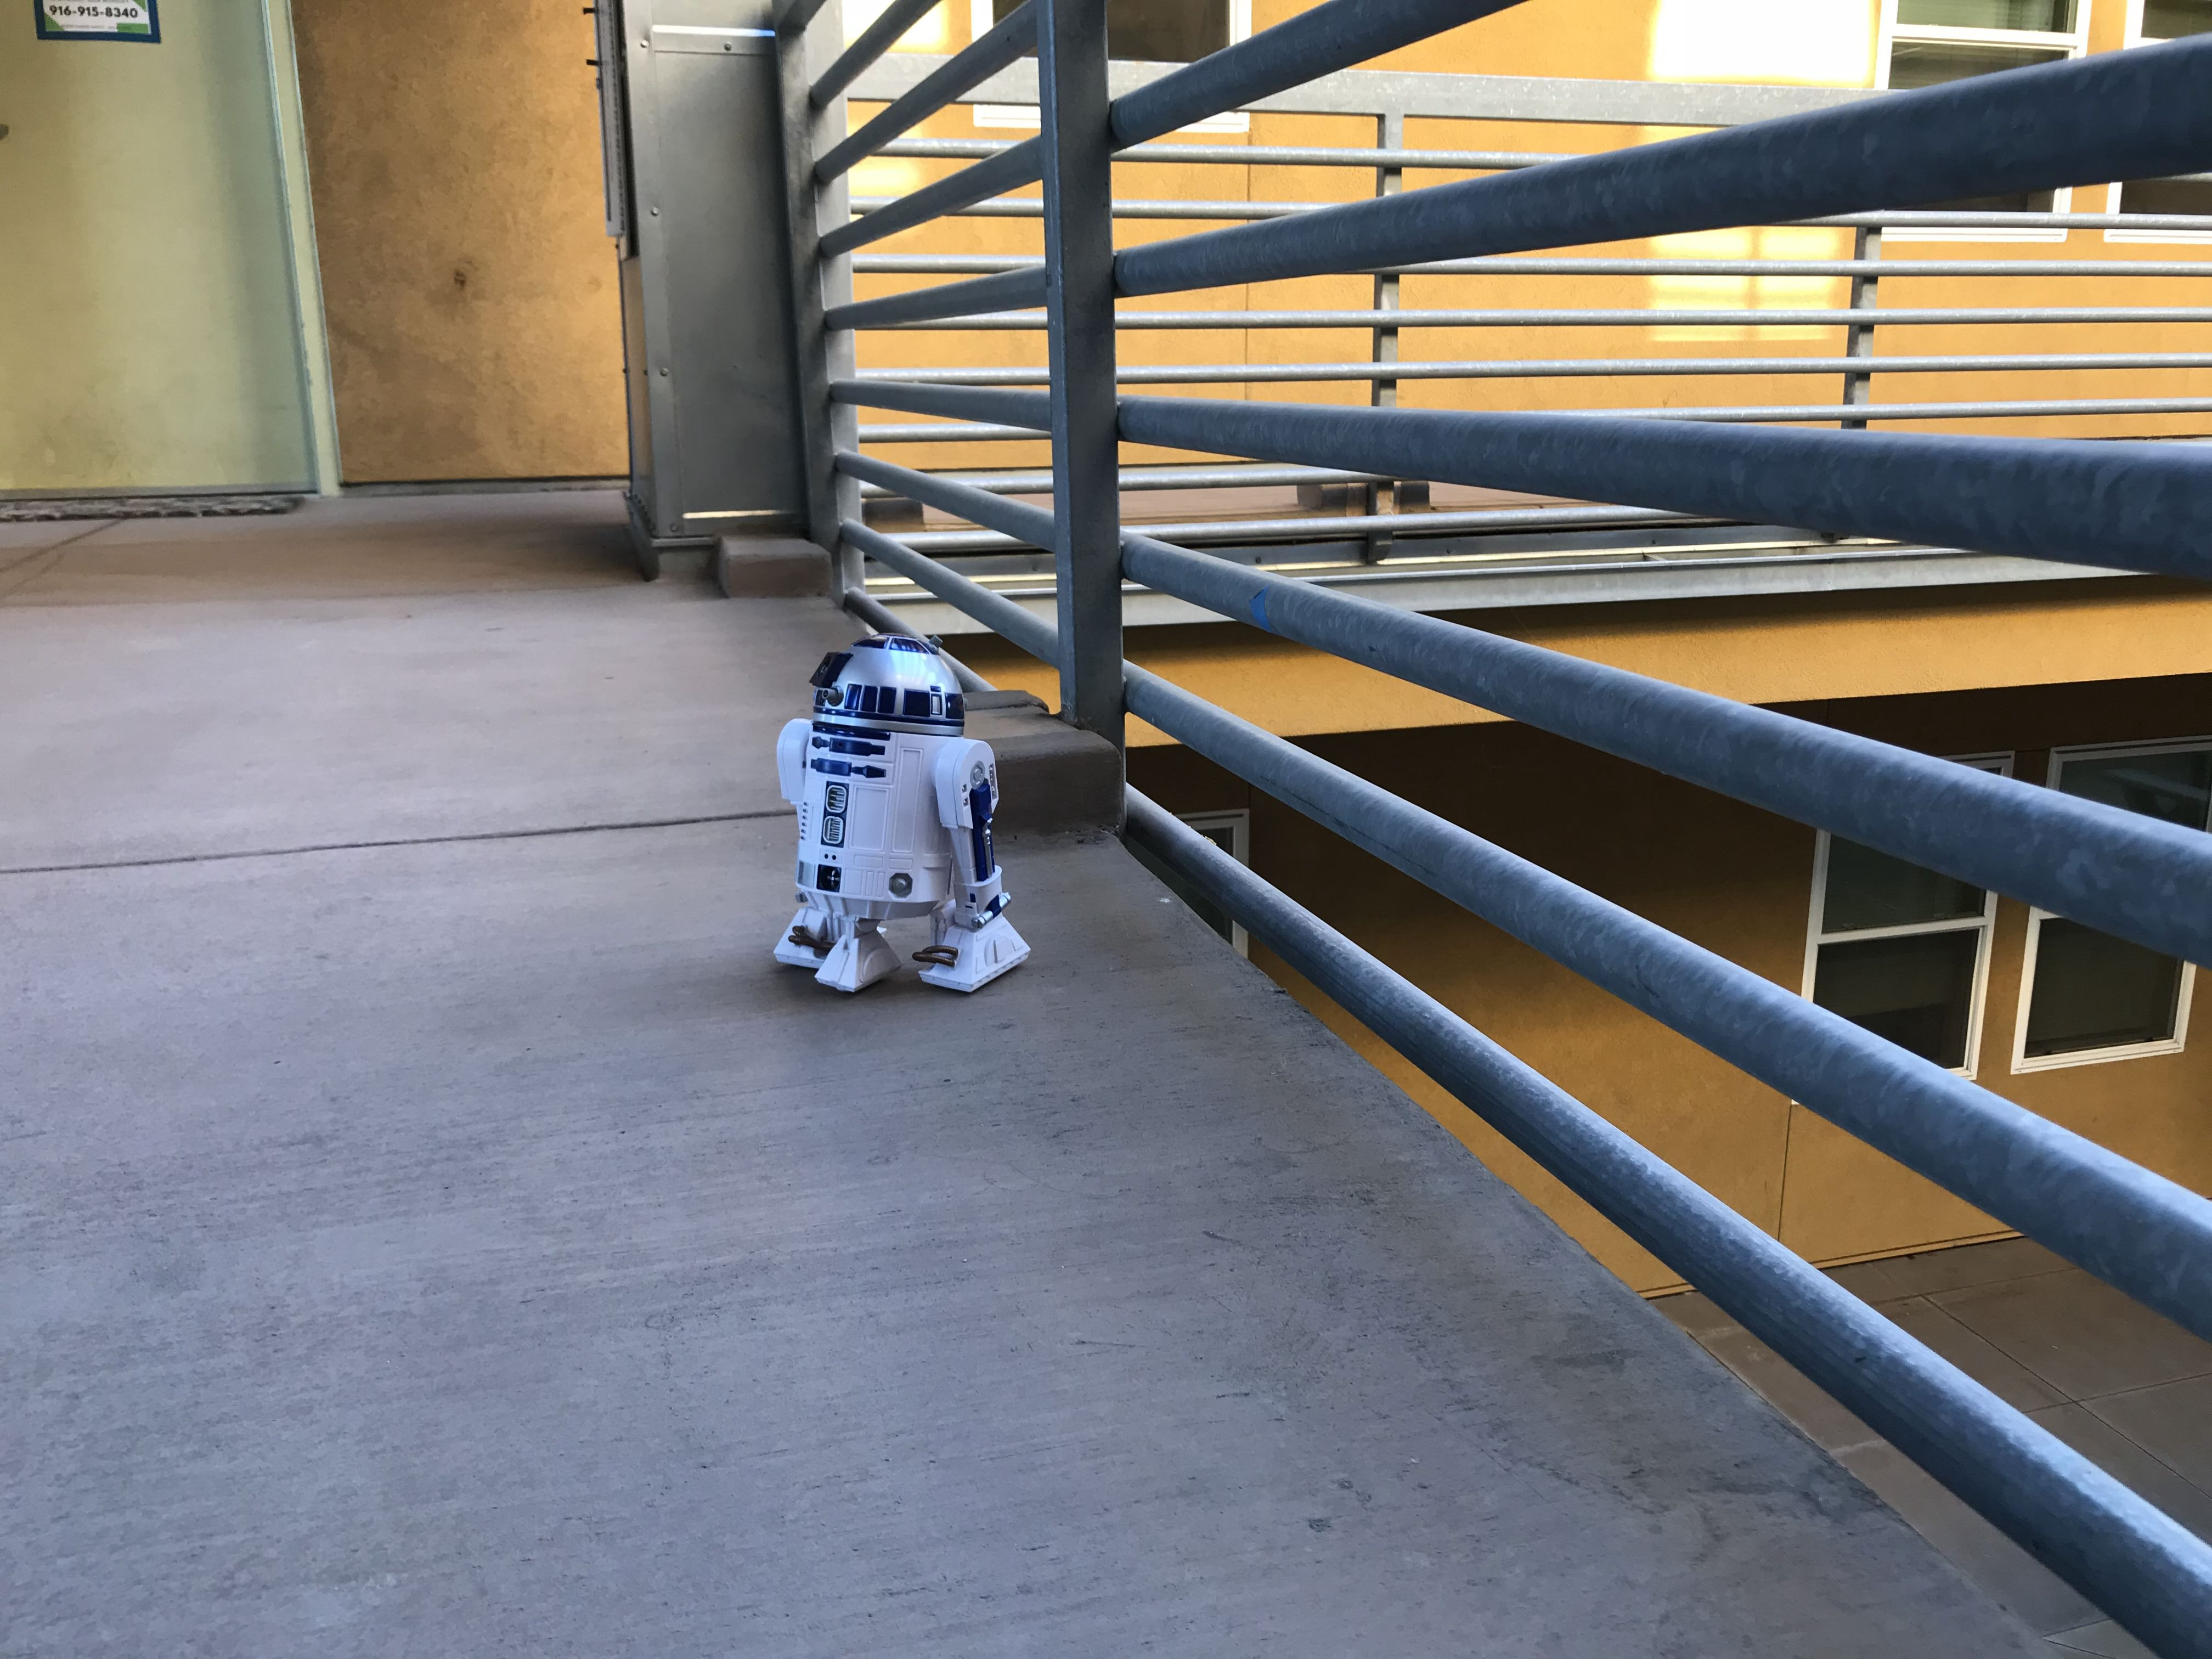r2d2: (772, 634, 1033, 997)
